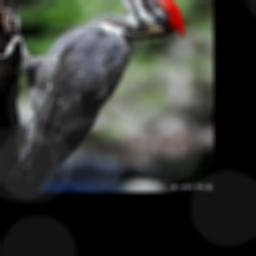Woodpecker: (0, 0, 186, 190)
